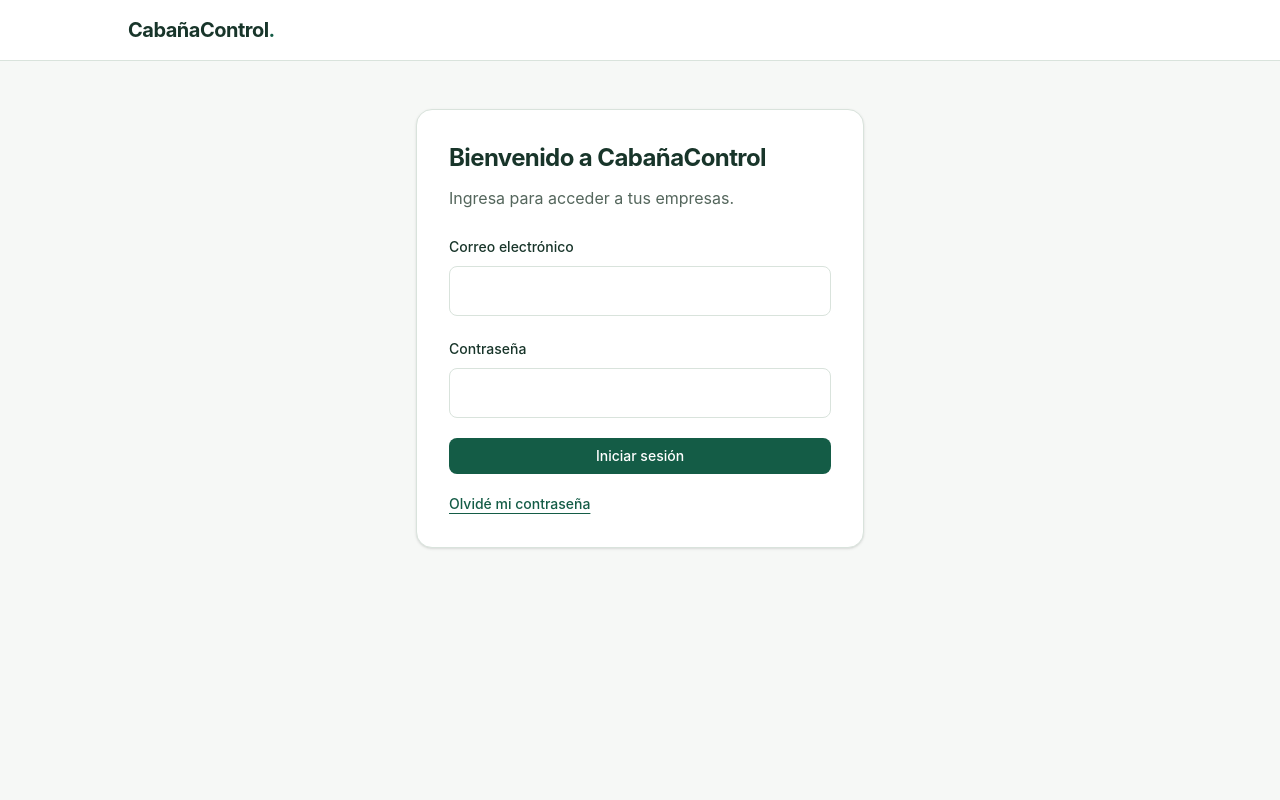
Test: Identidad › inicia sesión y entra directo cuando solo tiene una empresa
Type "owner@example.invalid" into the field labelled "Correo electrónico". click: (640, 291)
box: [449,266,831,316]
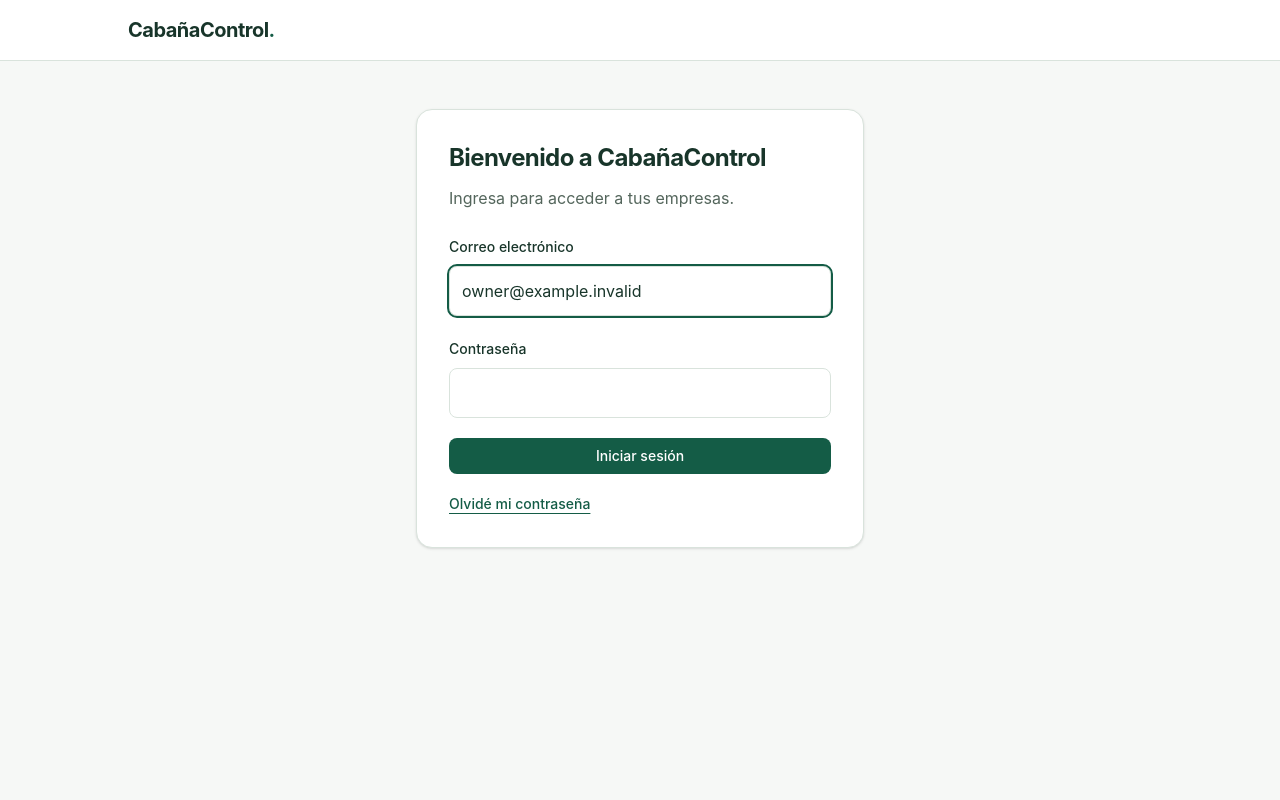
Type "Test-strong-passphrase-2026" into the password field labelled "Contraseña". click: (640, 393)
box: [449,368,831,418]
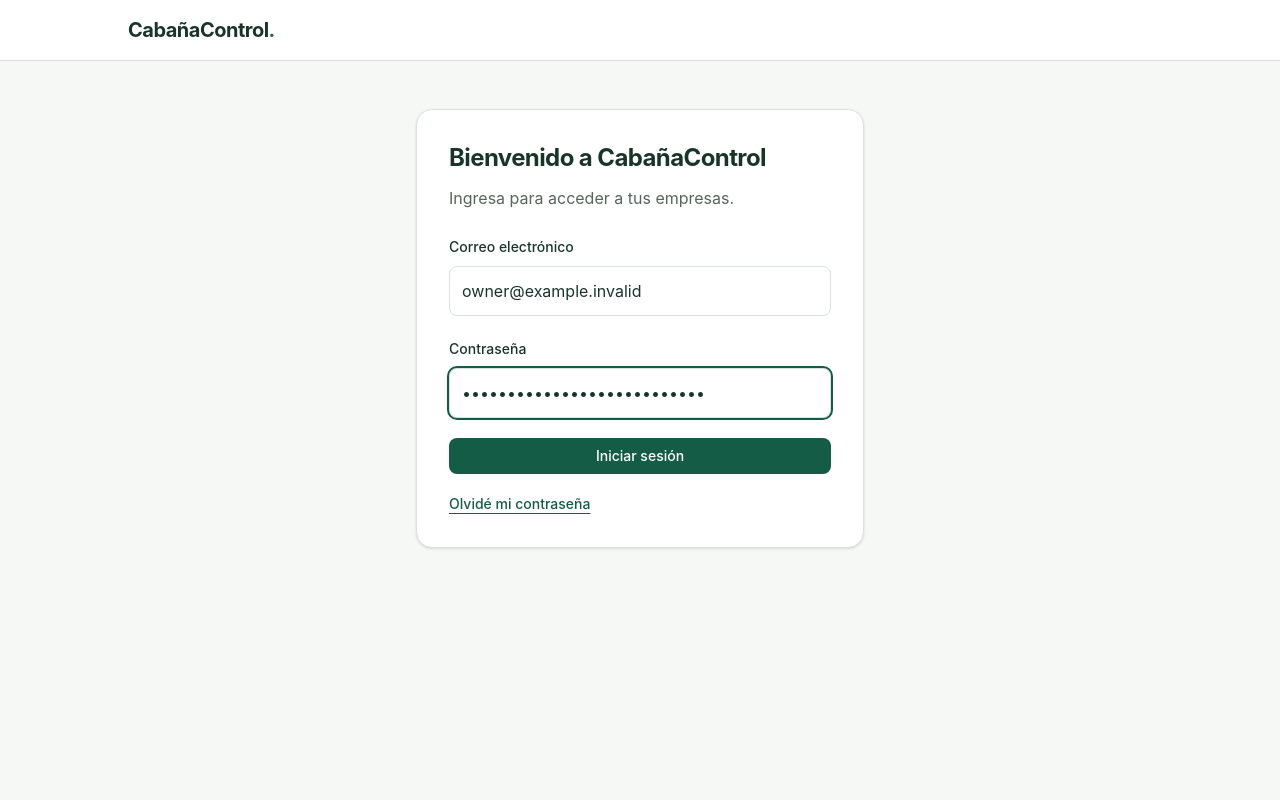
Click the button "Iniciar sesión". click: (640, 456)
box: [449,438,831,474]
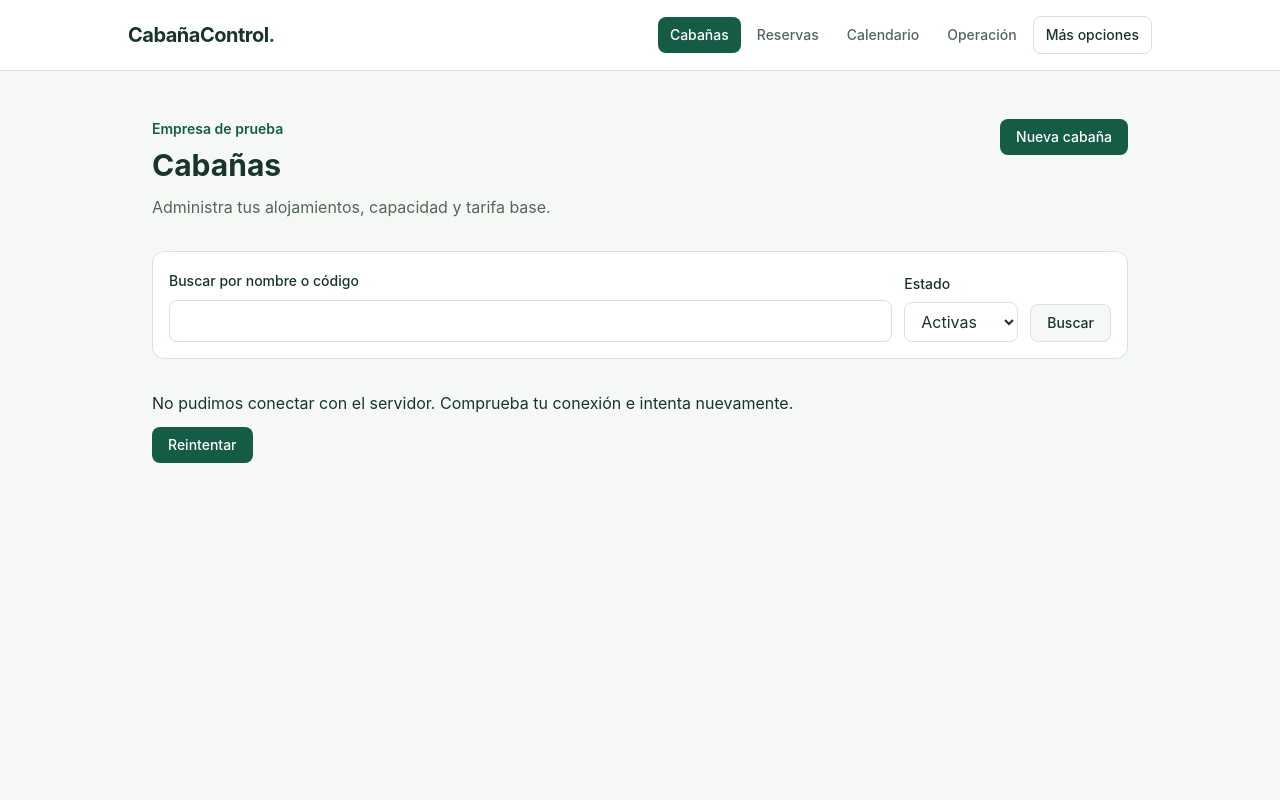
Expected: the heading "Cabañas" is shown, [152,147,281,183]
